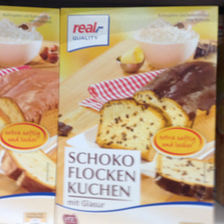cake: (60, 7, 218, 224)
